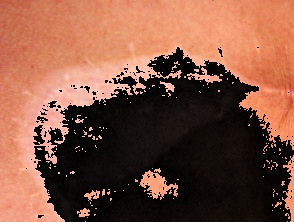vitiligo: (1, 28, 294, 222)
